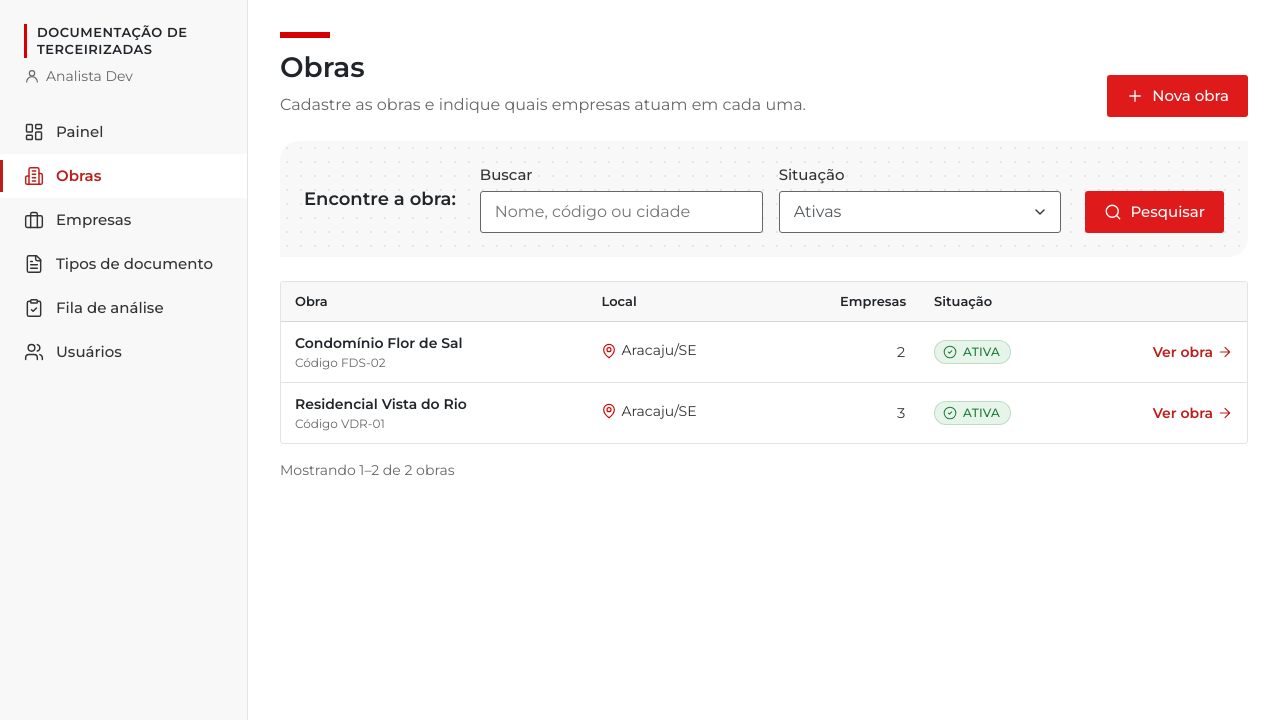
Test: Obras › valida os campos obrigatórios no cliente
The width and height of the screenshot is (1280, 720).
Expected: the table named "Obras" is shown, [281, 282, 1247, 443]
Click the button "Nova obra": point(1178, 96) [1107, 75, 1248, 117]
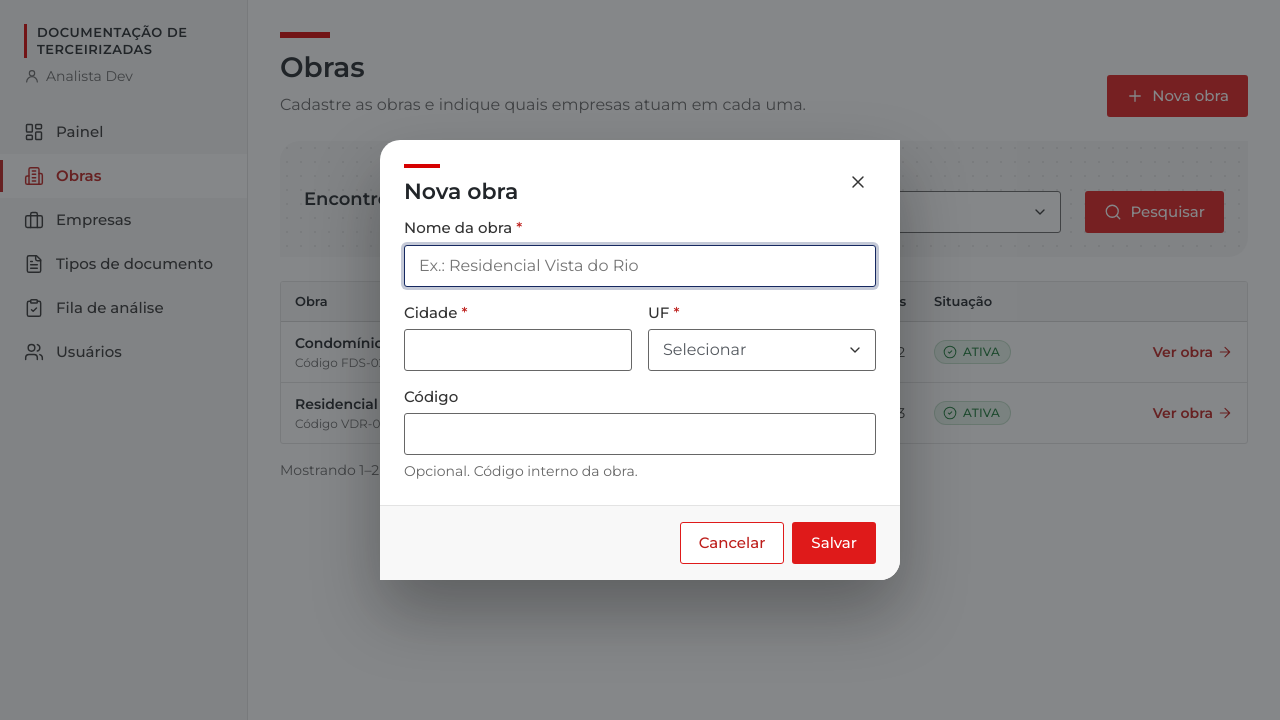
Click the button "Salvar": point(834, 543) [792, 522, 876, 564]
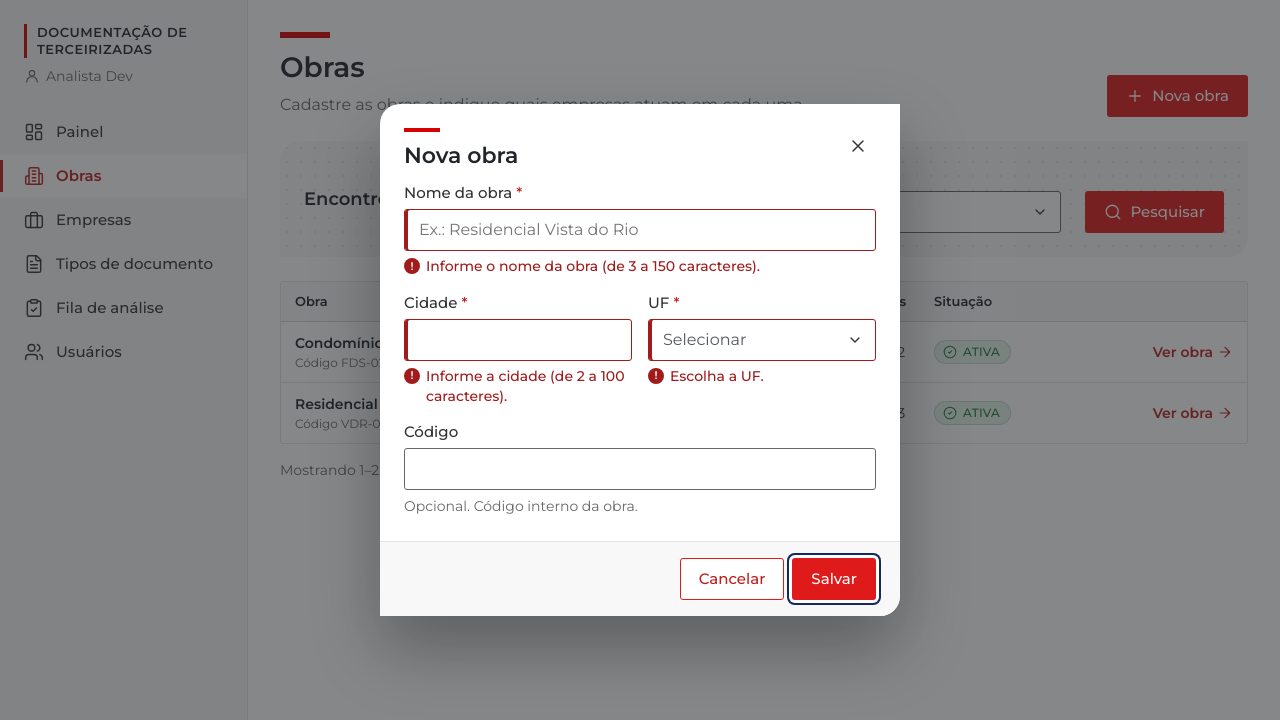
Expected: the text "Informe o nome da obra (de 3 a 150 caracteres)." is shown, [426, 257, 760, 275]
Expected: the text "Escolha a UF." is shown, [670, 367, 764, 385]
